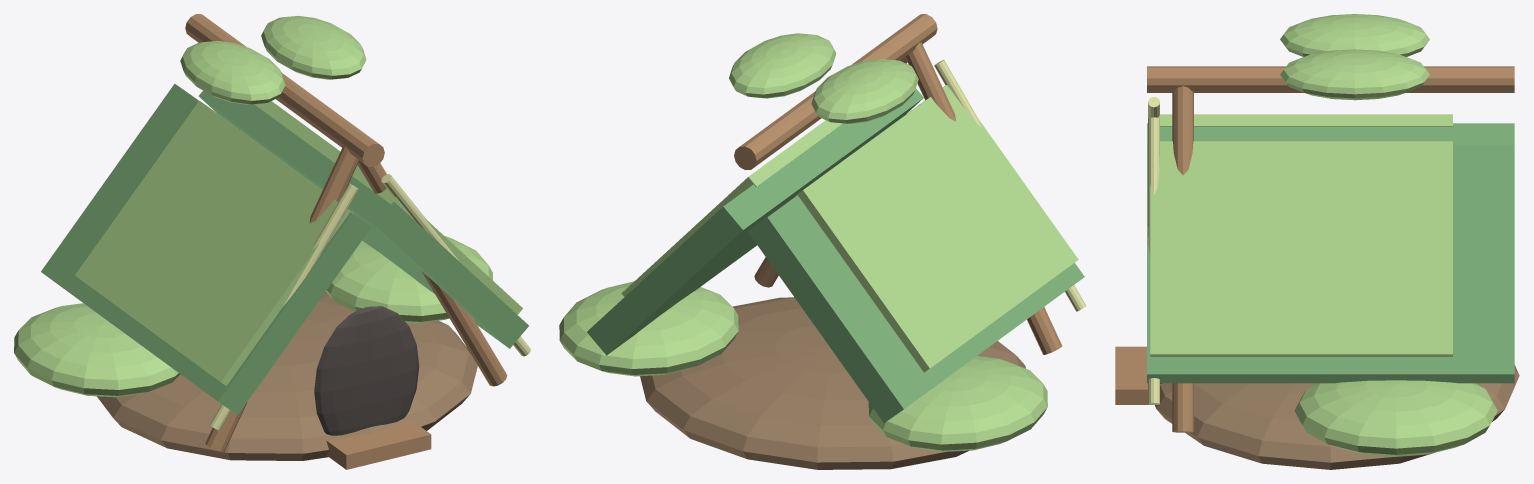
Rendered from AntLeafTent2.fbx.
3 renders of one model, left to right at view 1: azimuth 30°, elevation 25°; view 2: azimuth 150°, elevation 25°; view 3: azimuth 270°, elevation 25°, orthographic. The views are drawn at different scales.
Parts seen in each view (by area): view 1: Fresh overlapping roof leaf.002, Soil foundation.001, Sloping layered leaf roof.002, Sloping layered leaf roof.003, Triangular doorway.001, Side sleeping leaf, Side sleeping leaf.001, Tier leaf pennant.001, Tier leaf pennant.002, Roof ridge.001, Entrance stone.001, Tent branch.003 (+4 smaller); view 2: Fresh overlapping roof leaf.002, Soil foundation.001, Sloping layered leaf roof.002, Sloping layered leaf roof.003, Side sleeping leaf, Side sleeping leaf.001, Tier leaf pennant.002, Tier leaf pennant.001, Roof ridge.001, Fresh overlapping roof leaf.003, Tent branch.002, Leaf center vein.002; view 3: Fresh overlapping roof leaf.003, Sloping layered leaf roof.003, Side sleeping leaf.001, Soil foundation.001, Roof ridge.001, Tier leaf pennant.002, Sloping layered leaf roof.002, Tier leaf pennant.001, Fresh overlapping roof leaf.002, Tent branch.003, Entrance stone.001, Leaf center vein.003.
Boxes of the visible parts, x1,y1,x2,y2 form: Fresh overlapping roof leaf.002: [75, 100, 352, 385]; Soil foundation.001: [97, 292, 477, 460]; Sloping layered leaf roof.002: [41, 83, 371, 415]; Sloping layered leaf roof.003: [198, 90, 528, 348]; Triangular doorway.001: [314, 306, 419, 435]; Side sleeping leaf: [14, 303, 180, 397]; Side sleeping leaf.001: [326, 236, 492, 323]; Tier leaf pennant.001: [180, 41, 285, 104]; Tier leaf pennant.002: [261, 15, 366, 79]; Roof ridge.001: [185, 14, 384, 166]; Entrance stone.001: [326, 420, 431, 469]; Tent branch.003: [357, 160, 507, 386]; Fresh overlapping roof leaf.002: [795, 85, 1078, 372]; Soil foundation.001: [640, 297, 1025, 469]; Sloping layered leaf roof.002: [747, 195, 1084, 422]; Sloping layered leaf roof.003: [587, 88, 923, 355]; Side sleeping leaf: [868, 356, 1047, 451]; Side sleeping leaf.001: [559, 281, 738, 376]; Tier leaf pennant.002: [729, 33, 836, 98]; Tier leaf pennant.001: [811, 58, 918, 123]; Roof ridge.001: [734, 14, 937, 169]; Fresh overlapping roof leaf.003: [621, 120, 842, 296]; Tent branch.002: [905, 42, 1062, 354]; Leaf center vein.002: [934, 60, 1086, 311]; Fresh overlapping roof leaf.003: [1150, 141, 1452, 356]; Sloping layered leaf roof.003: [1147, 145, 1514, 383]; Side sleeping leaf.001: [1294, 380, 1497, 456]; Soil foundation.001: [1155, 365, 1519, 469]; Roof ridge.001: [1147, 66, 1514, 92]; Tier leaf pennant.002: [1280, 49, 1429, 100]; Sloping layered leaf roof.002: [1147, 123, 1514, 144]; Tier leaf pennant.001: [1280, 14, 1429, 56]; Fresh overlapping roof leaf.002: [1158, 114, 1452, 126]; Tent branch.003: [1172, 86, 1193, 432]; Entrance stone.001: [1115, 346, 1149, 404]; Leaf center vein.003: [1148, 117, 1159, 404].
Bounding box in the file's own units: 224 × 171 × 167.
